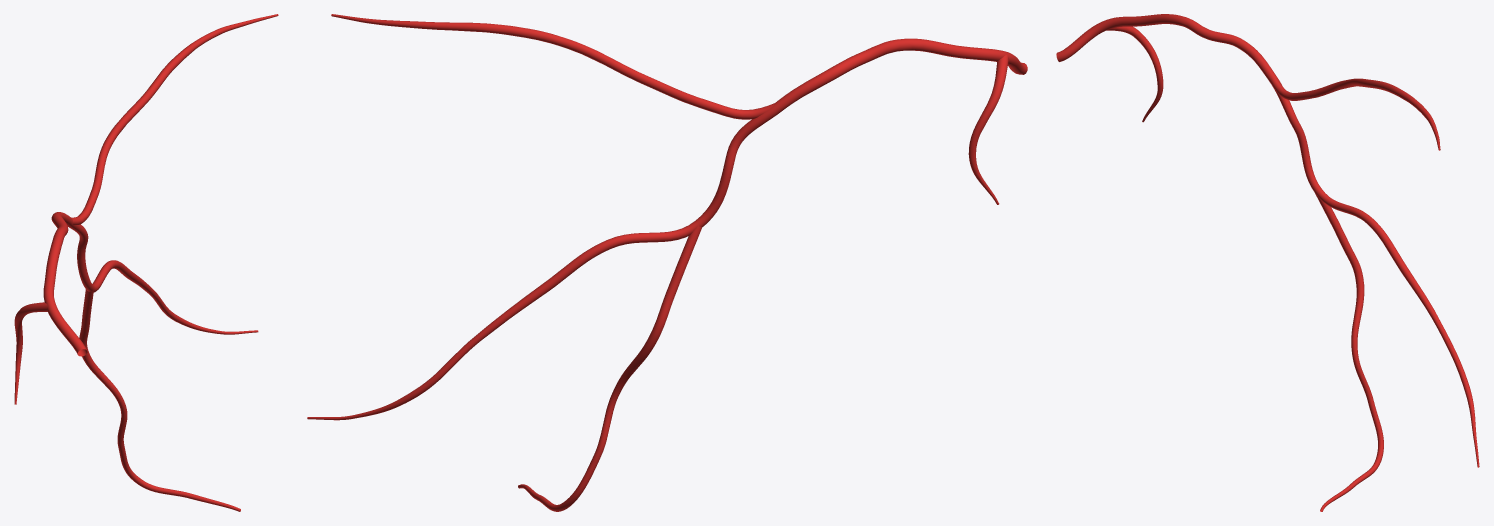
Rendered from circulatorio-temporo-occipital-branch-r.glb.
The picture shows the model from 3 angles, left to right: view 1: azimuth 30°, elevation 25°; view 2: azimuth 150°, elevation 25°; view 3: azimuth 270°, elevation 25°; orthographic projection. The views are drawn at different scales.
Visible parts, largest first — view 1: Temporo-occipital branch.r, Branch to angular gyrus.r; view 2: Temporo-occipital branch.r, Branch to angular gyrus.r; view 3: Temporo-occipital branch.r, Branch to angular gyrus.r.
Boxes of the visible parts, x1,y1,x2,y2 form: Temporo-occipital branch.r: (43, 14, 278, 511); Branch to angular gyrus.r: (14, 302, 48, 404); Temporo-occipital branch.r: (307, 14, 1027, 511); Branch to angular gyrus.r: (968, 54, 1008, 204); Temporo-occipital branch.r: (1056, 14, 1479, 511); Branch to angular gyrus.r: (1106, 26, 1163, 122).
Bounding box in the file's own units: 0.0461 × 0.0456 × 0.0421.
